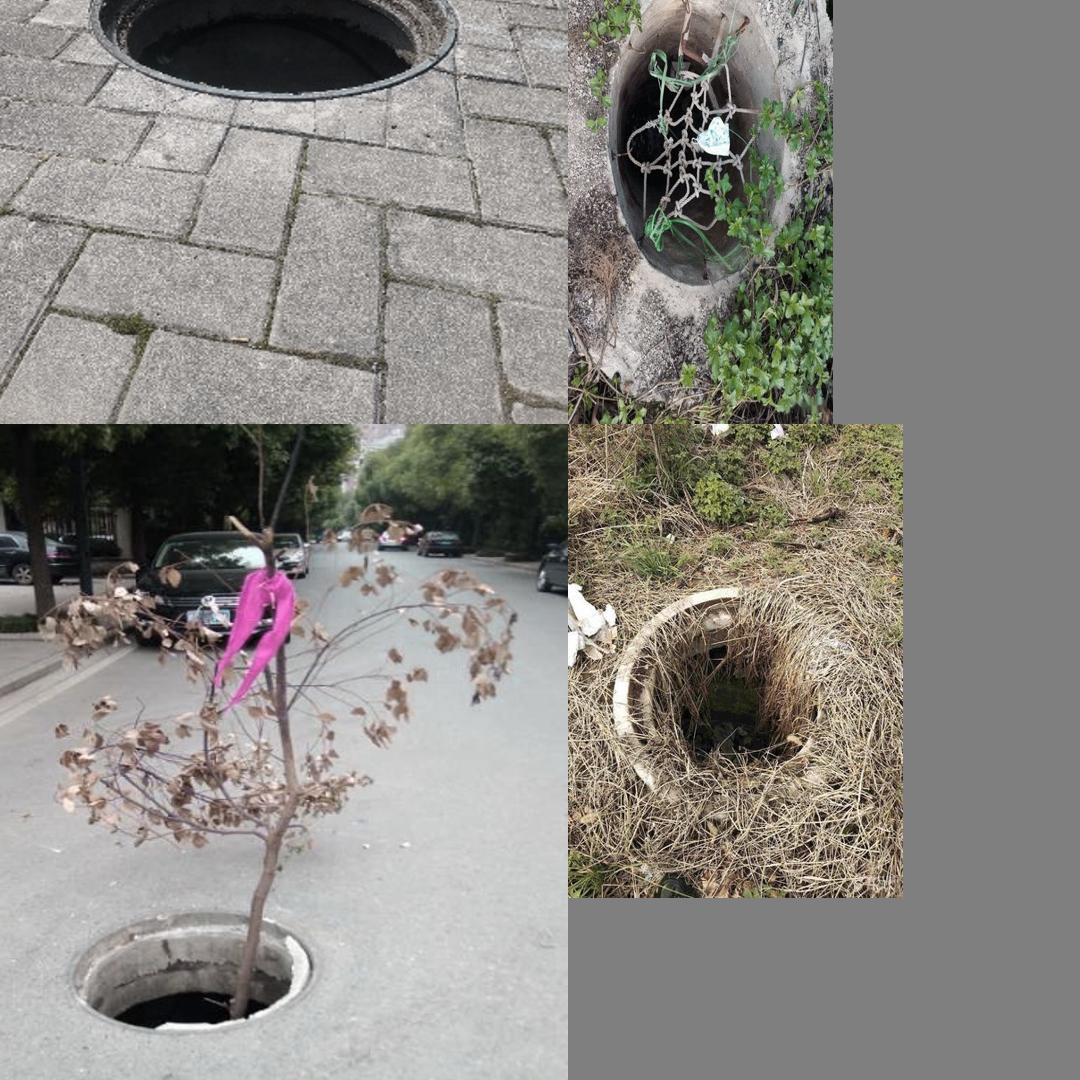lose: (595, 0, 814, 342), (612, 593, 866, 829), (86, 0, 465, 104), (67, 912, 311, 1035)
